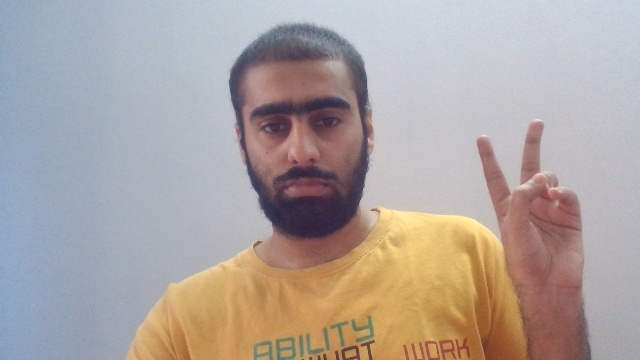scissors: (475, 118, 586, 294)
